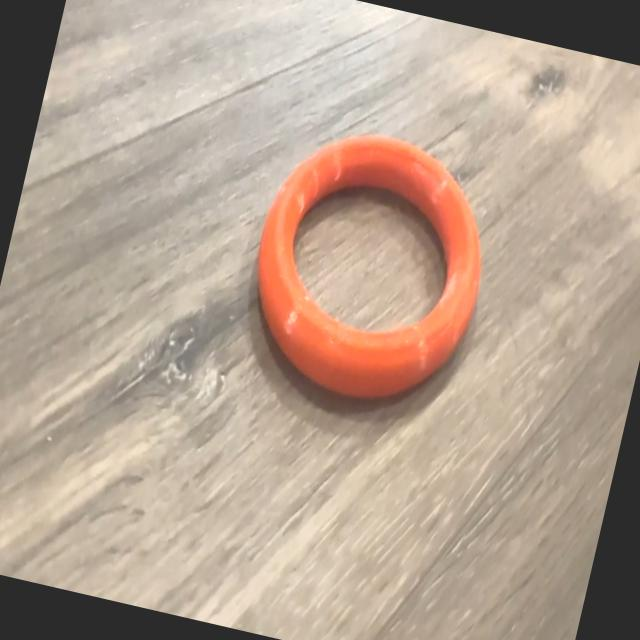note: (230, 110, 509, 427)
